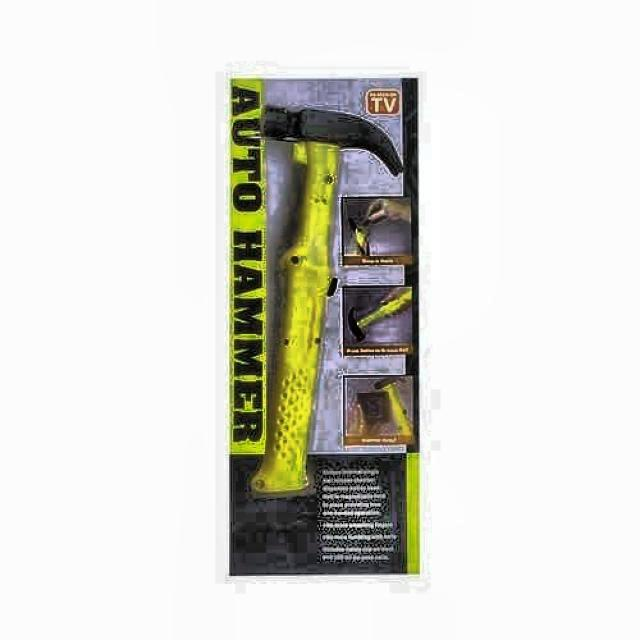hammer: (251, 104, 403, 498)
